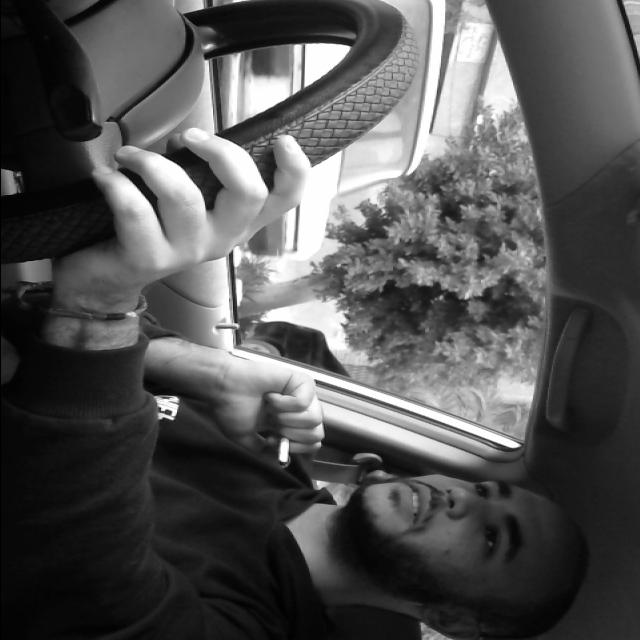smoking: (274, 422, 296, 468)
